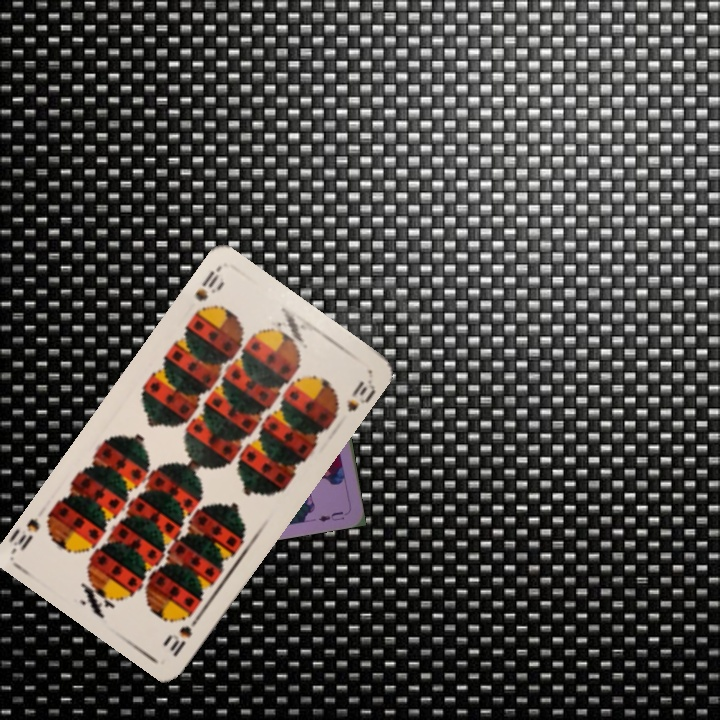S10: (160, 608, 205, 660), (191, 264, 225, 304)
